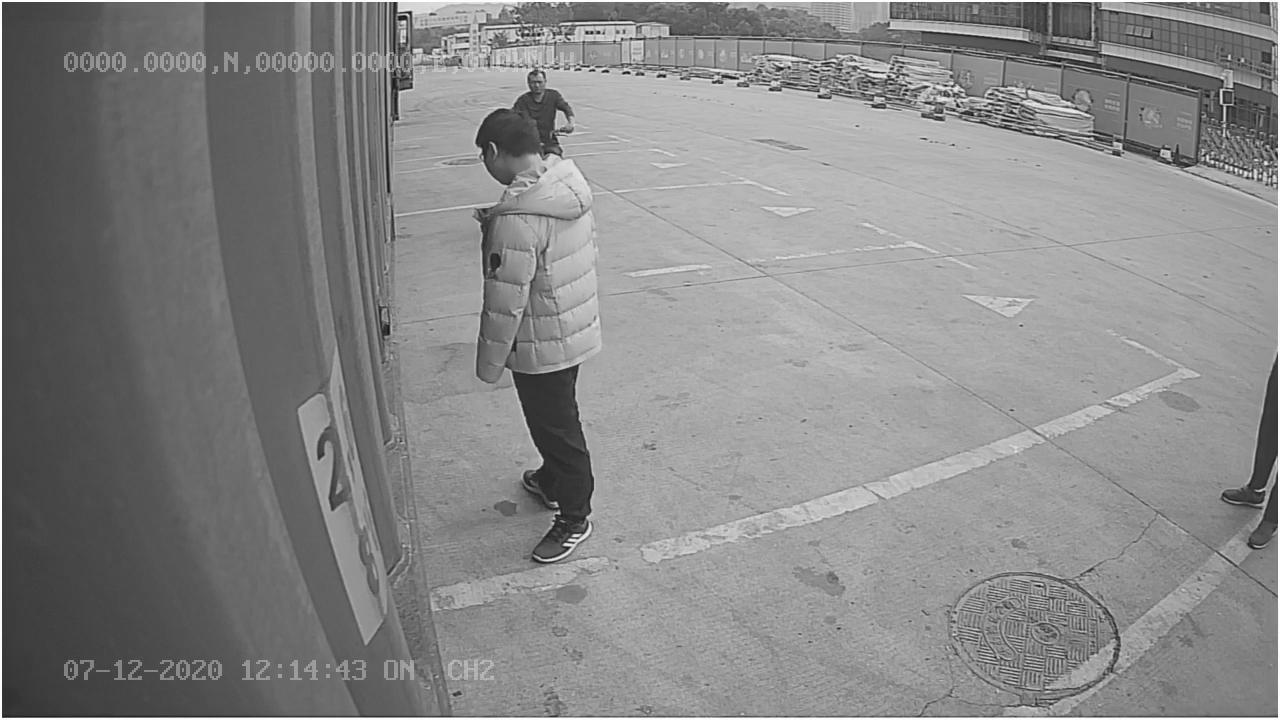person: (467, 106, 604, 558)
